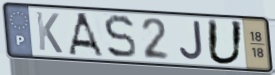2: (140, 16, 172, 60)
A: (67, 11, 107, 59)
J: (177, 20, 204, 63)
K: (34, 10, 65, 56)
S: (102, 13, 138, 60)
U: (205, 18, 245, 67)
